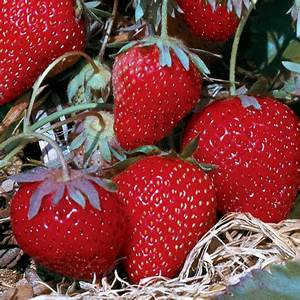Fresa: (107, 146, 228, 292), (180, 85, 300, 229), (8, 161, 126, 286), (104, 31, 208, 154)
